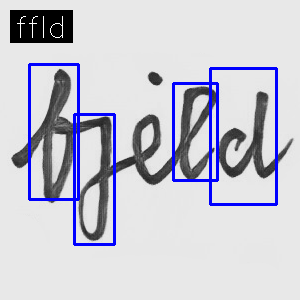d: (215, 88, 273, 181)
e: (128, 111, 164, 189)
f: (36, 66, 77, 204)
j: (73, 110, 118, 245)
l: (172, 84, 218, 183)
